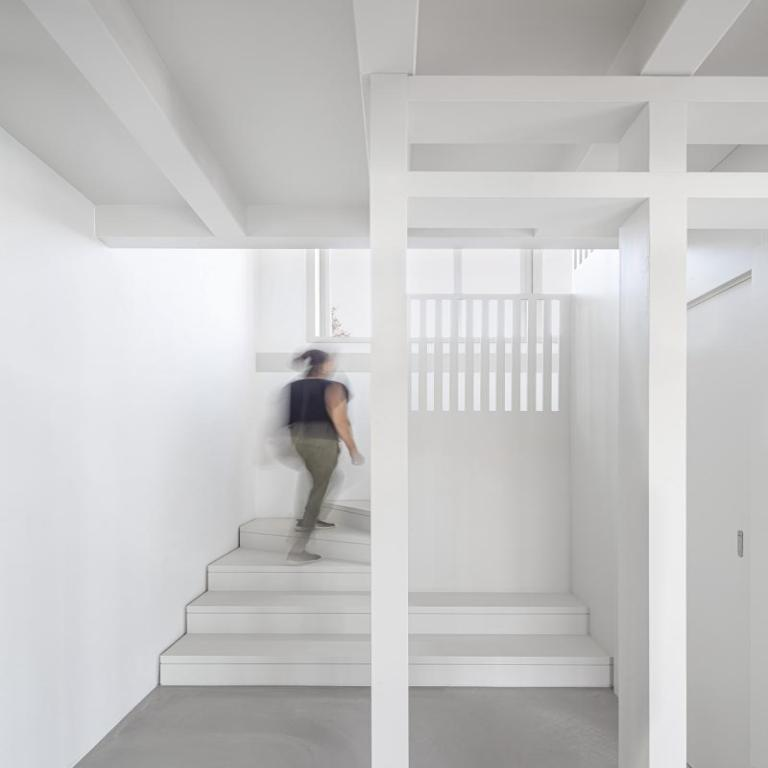white-walls: (29, 257, 242, 693)
